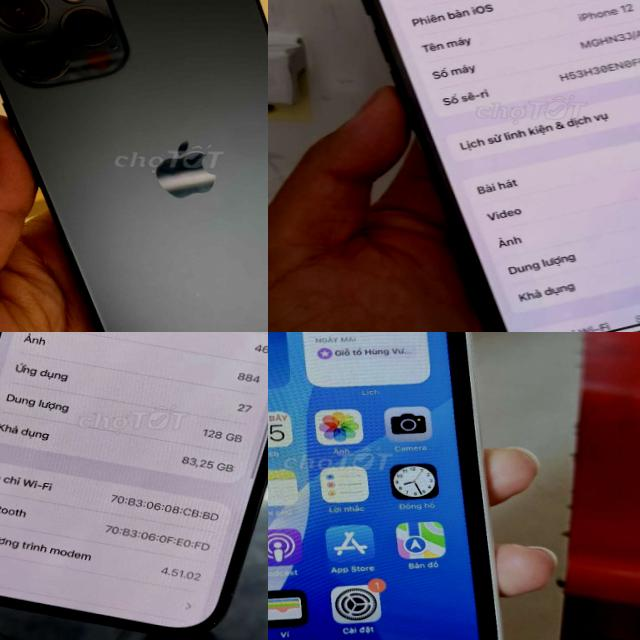gen_12_13: (340, 0, 640, 332), (0, 0, 268, 332)
gen_14: (0, 332, 268, 640)
gen_x_xs: (268, 332, 502, 640)
